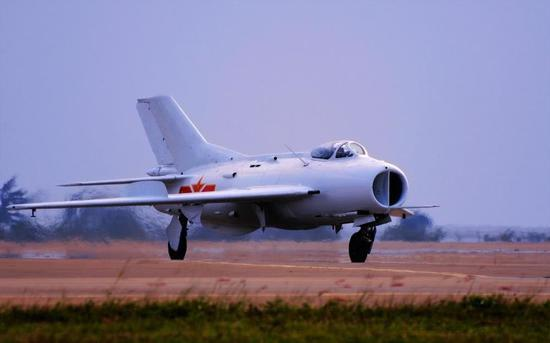airplane: (5, 96, 411, 261)
